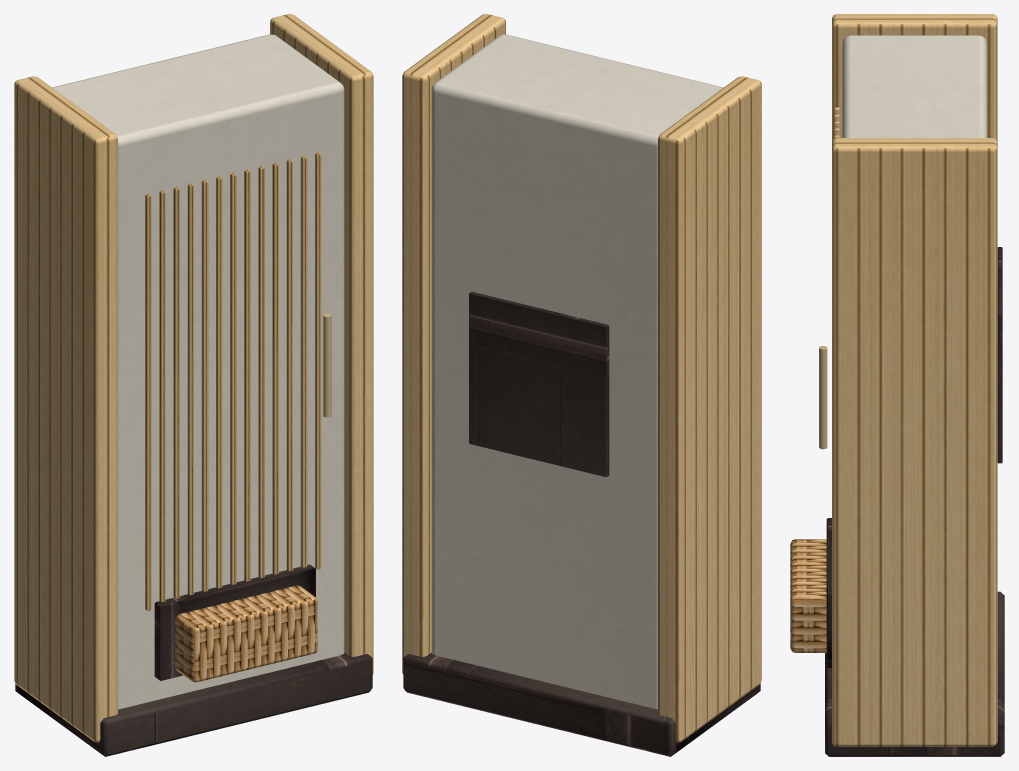
Rendered from hp_furniture_residential_cleaner_closet_v1.glb.
3 views of the same model, side by side, from view 1: azimuth 30°, elevation 25°; view 2: azimuth 150°, elevation 25°; view 3: azimuth 270°, elevation 25° (orthographic).
Parts seen in each view (by area): view 1: tall_warm_white_cleaner_closet_body, thick_pale_oak_side_frame_left, thick_pale_oak_side_frame_right, overbuilt_floor_plinth, woven_rectangular_storage_basket, lower_open_basket_niche_shadow, closet_front_door_vertical_flute_04, closet_front_door_vertical_flute_11, closet_front_door_vertical_flute_00, closet_front_door_vertical_flute_12, closet_front_door_vertical_flute_07, closet_front_door_vertical_flute_09 (+8 smaller); view 2: tall_warm_white_cleaner_closet_body, thick_pale_oak_side_frame_left, heavy_hidden_back_service_panel, thick_pale_oak_side_frame_right, overbuilt_floor_plinth; view 3: thick_pale_oak_side_frame_right, tall_warm_white_cleaner_closet_body, thick_pale_oak_side_frame_left, woven_rectangular_storage_basket, overbuilt_floor_plinth, heavy_hidden_back_service_panel, single_muted_brass_recessed_handle, lower_open_basket_niche_shadow.
Part boxes in pixels (<box>): tall_warm_white_cleaner_closet_body: <box>52,34,344,709</box>; thick_pale_oak_side_frame_left: <box>14,76,117,742</box>; thick_pale_oak_side_frame_right: <box>270,14,373,674</box>; overbuilt_floor_plinth: <box>15,652,372,756</box>; woven_rectangular_storage_basket: <box>175,585,317,682</box>; lower_open_basket_niche_shadow: <box>154,564,315,680</box>; closet_front_door_vertical_flute_04: <box>201,180,208,591</box>; closet_front_door_vertical_flute_11: <box>300,156,307,567</box>; closet_front_door_vertical_flute_00: <box>145,193,151,611</box>; closet_front_door_vertical_flute_12: <box>315,152,321,569</box>; closet_front_door_vertical_flute_07: <box>244,169,250,581</box>; closet_front_door_vertical_flute_09: <box>272,162,278,574</box>; tall_warm_white_cleaner_closet_body: <box>431,34,723,709</box>; thick_pale_oak_side_frame_left: <box>658,76,761,742</box>; heavy_hidden_back_service_panel: <box>469,291,609,477</box>; thick_pale_oak_side_frame_right: <box>402,14,505,674</box>; overbuilt_floor_plinth: <box>403,652,760,756</box>; thick_pale_oak_side_frame_right: <box>832,138,997,746</box>; tall_warm_white_cleaner_closet_body: <box>842,35,987,137</box>; thick_pale_oak_side_frame_left: <box>832,14,997,141</box>; woven_rectangular_storage_basket: <box>790,539,826,652</box>; overbuilt_floor_plinth: <box>825,591,1004,756</box>; heavy_hidden_back_service_panel: <box>997,247,1002,463</box>; single_muted_brass_recessed_handle: <box>819,346,827,449</box>; lower_open_basket_niche_shadow: <box>826,518,831,667</box>.
Size of the model in its own units: 0.93 by 1.96 by 0.62.
Materials: 6 (5 with a texture image).
